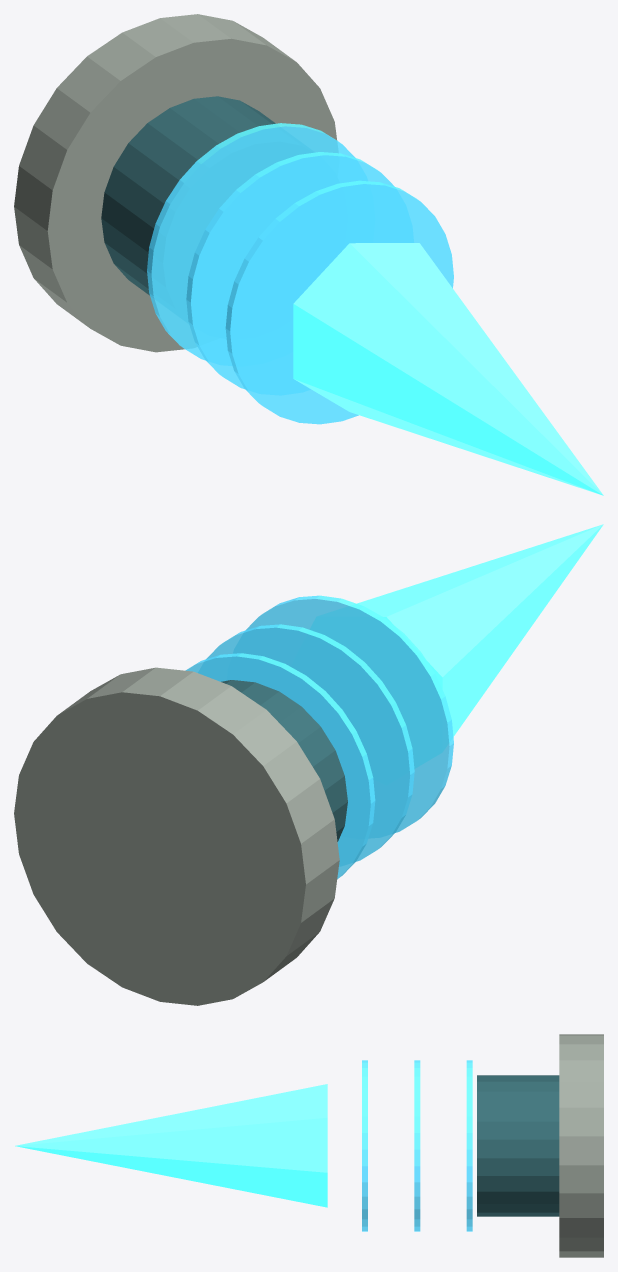
The model's file is 05_Crystal_Energy_Obelisk.glb.
3 renders of one model, top to bottom at view 1: azimuth 30°, elevation 25°; view 2: azimuth 150°, elevation 25°; view 3: azimuth 270°, elevation 25°, orthographic. The views are drawn at different scales.
Visible parts, largest first — view 1: 05_Crystal_Energy_Obelisk_00, 05_Crystal_Energy_Obelisk_02, 05_Crystal_Energy_Obelisk_05, 05_Crystal_Energy_Obelisk_03, 05_Crystal_Energy_Obelisk_04, 05_Crystal_Energy_Obelisk_01; view 2: 05_Crystal_Energy_Obelisk_00, 05_Crystal_Energy_Obelisk_02, 05_Crystal_Energy_Obelisk_04, 05_Crystal_Energy_Obelisk_05, 05_Crystal_Energy_Obelisk_03, 05_Crystal_Energy_Obelisk_01; view 3: 05_Crystal_Energy_Obelisk_02, 05_Crystal_Energy_Obelisk_01, 05_Crystal_Energy_Obelisk_00, 05_Crystal_Energy_Obelisk_03, 05_Crystal_Energy_Obelisk_04, 05_Crystal_Energy_Obelisk_05.
Part boxes in pixels (x1=…): 05_Crystal_Energy_Obelisk_00: x1=14, y1=14, x2=337, y2=352; 05_Crystal_Energy_Obelisk_02: x1=293, y1=243, x2=603, y2=495; 05_Crystal_Energy_Obelisk_05: x1=225, y1=180, x2=453, y2=424; 05_Crystal_Energy_Obelisk_03: x1=147, y1=123, x2=355, y2=360; 05_Crystal_Energy_Obelisk_04: x1=186, y1=152, x2=394, y2=389; 05_Crystal_Energy_Obelisk_01: x1=101, y1=96, x2=275, y2=295; 05_Crystal_Energy_Obelisk_00: x1=14, y1=667, x2=339, y2=1005; 05_Crystal_Energy_Obelisk_02: x1=357, y1=524, x2=603, y2=736; 05_Crystal_Energy_Obelisk_04: x1=206, y1=624, x2=414, y2=861; 05_Crystal_Energy_Obelisk_05: x1=245, y1=595, x2=453, y2=832; 05_Crystal_Energy_Obelisk_03: x1=185, y1=653, x2=375, y2=878; 05_Crystal_Energy_Obelisk_01: x1=221, y1=680, x2=347, y2=841; 05_Crystal_Energy_Obelisk_02: x1=15, y1=1084, x2=327, y2=1207; 05_Crystal_Energy_Obelisk_01: x1=477, y1=1075, x2=559, y2=1216; 05_Crystal_Energy_Obelisk_00: x1=559, y1=1034, x2=603, y2=1257; 05_Crystal_Energy_Obelisk_03: x1=466, y1=1060, x2=472, y2=1231; 05_Crystal_Energy_Obelisk_04: x1=414, y1=1060, x2=420, y2=1231; 05_Crystal_Energy_Obelisk_05: x1=362, y1=1060, x2=367, y2=1231.
Bounding box in the file's own units: 3 × 3 × 7.9.
